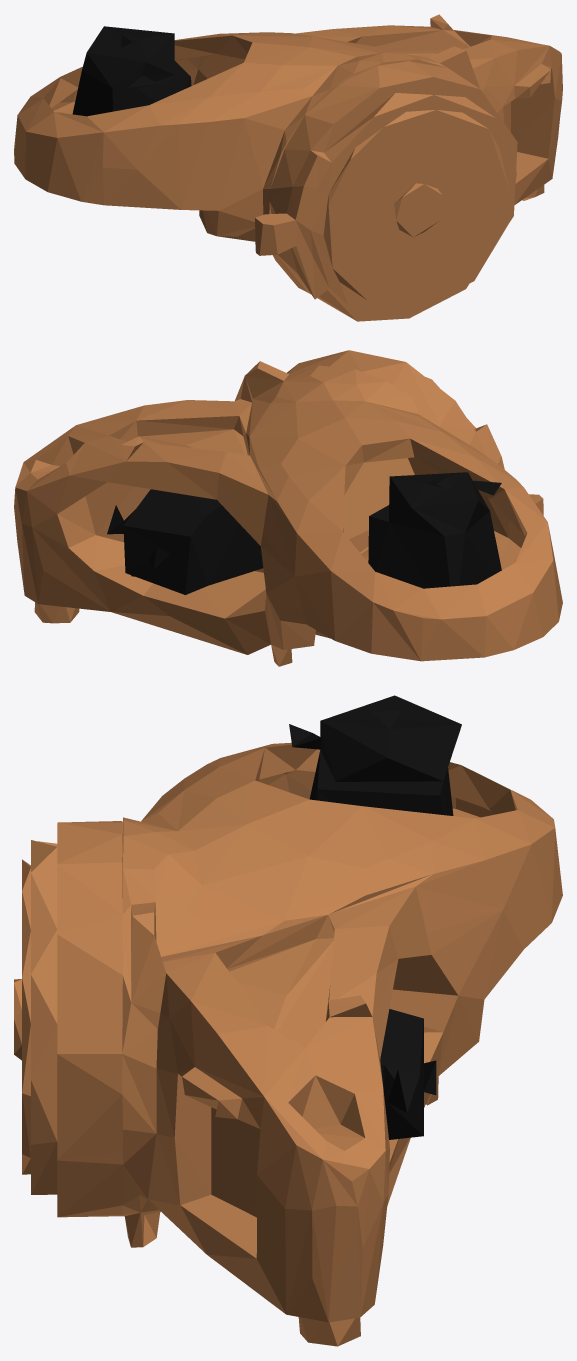
File: like_kr240r2900_link_1.glb
The picture shows the model from 3 angles, top to bottom: view 1: azimuth 30°, elevation 25°; view 2: azimuth 150°, elevation 25°; view 3: azimuth 270°, elevation 25°; orthographic projection. The views are drawn at different scales.
Visible parts, largest first — view 1: world; view 2: world; view 3: world.
Part boxes in pixels (bbox=[...]): world: bbox=[14, 14, 562, 321]; world: bbox=[14, 350, 562, 666]; world: bbox=[14, 695, 562, 1346].
Size of the model in its own units: 1.39 by 0.642 by 0.8633.
